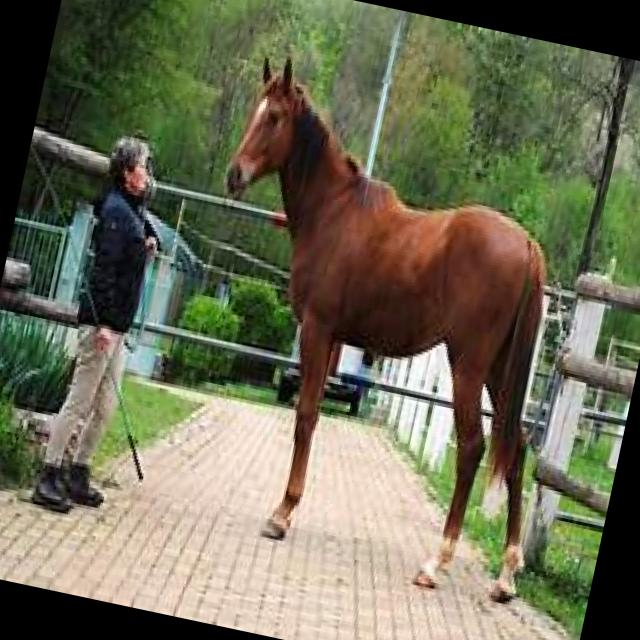animal: (151, 46, 621, 606)
